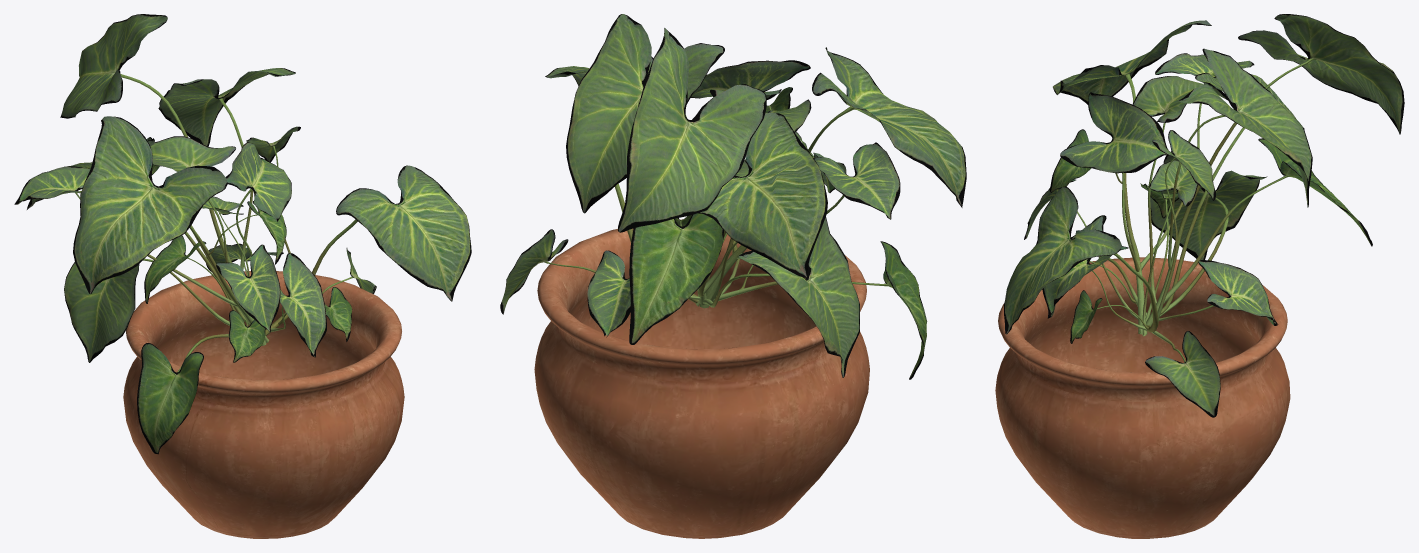
Rendered from caladium_bowl.glb.
3 views of the same model, side by side, from view 1: azimuth 30°, elevation 25°; view 2: azimuth 150°, elevation 25°; view 3: azimuth 270°, elevation 25° (orthographic). The views are drawn at different scales.
Visible parts, largest first — view 1: leaves, pot; view 2: leaves, pot; view 3: pot, leaves.
Boxes of the visible parts, x1,y1,x2,y2 form: leaves: (14,14,471,454); pot: (123,271,404,538); leaves: (500,14,966,379); pot: (534,219,869,538); pot: (995,257,1290,538); leaves: (1004,14,1404,417).
Size of the model in its own units: 0.7012 by 0.8414 by 0.6572.
Materials: 2 (2 with a texture image).
